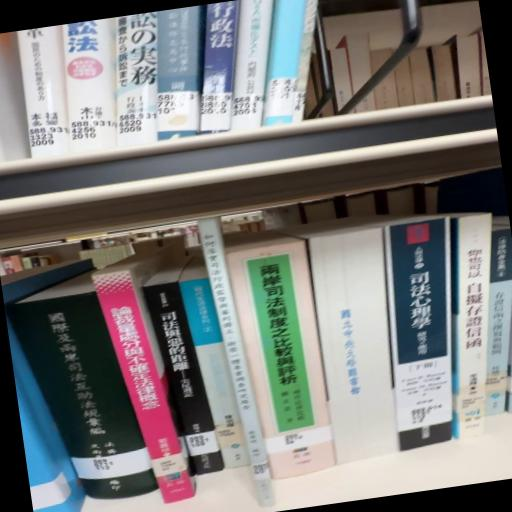backward: (284, 219, 401, 465), (434, 219, 451, 301)
book: (4, 277, 160, 512), (92, 242, 210, 509), (225, 233, 333, 445), (141, 264, 222, 485)
